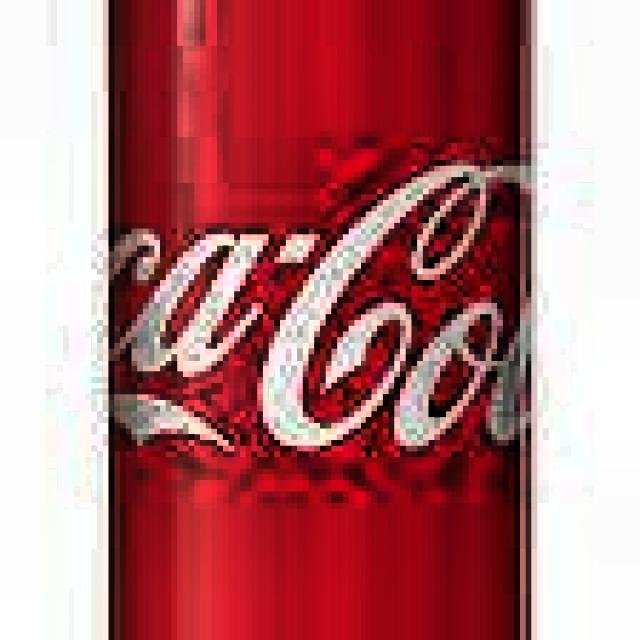metal: (86, 0, 560, 640)
